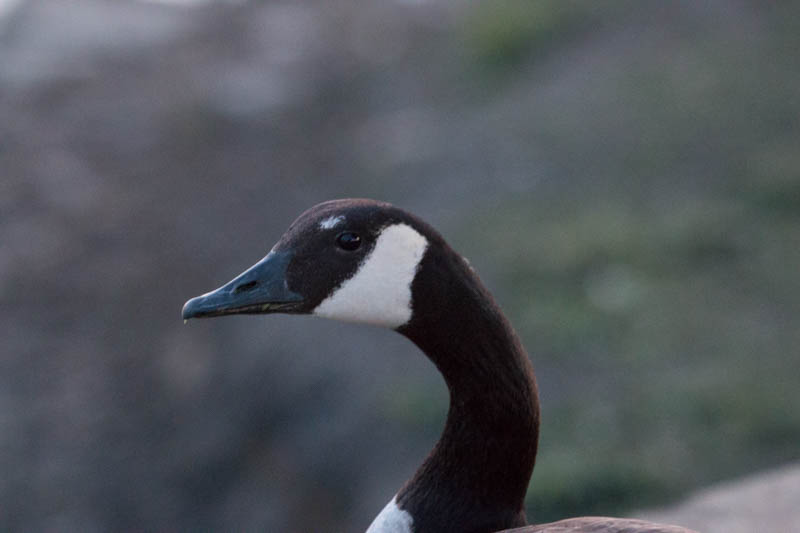goose-head: (180, 196, 487, 329)
